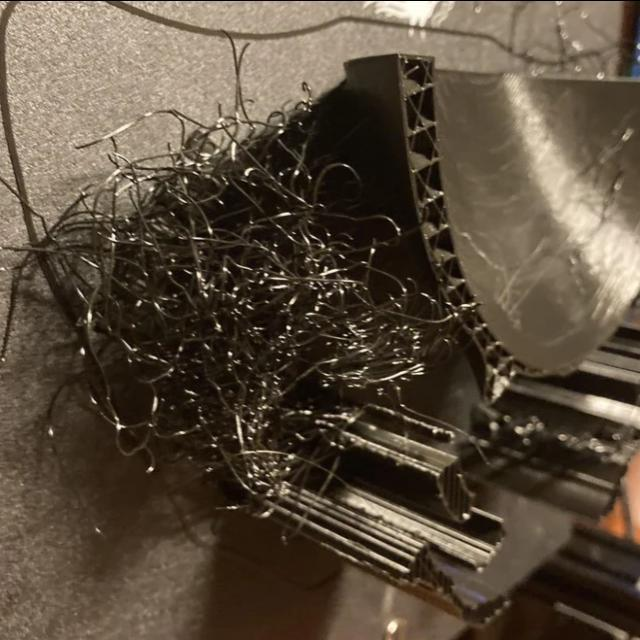Spaghetti: (255, 255, 416, 410), (96, 232, 200, 430), (165, 115, 327, 228), (193, 394, 304, 500)
